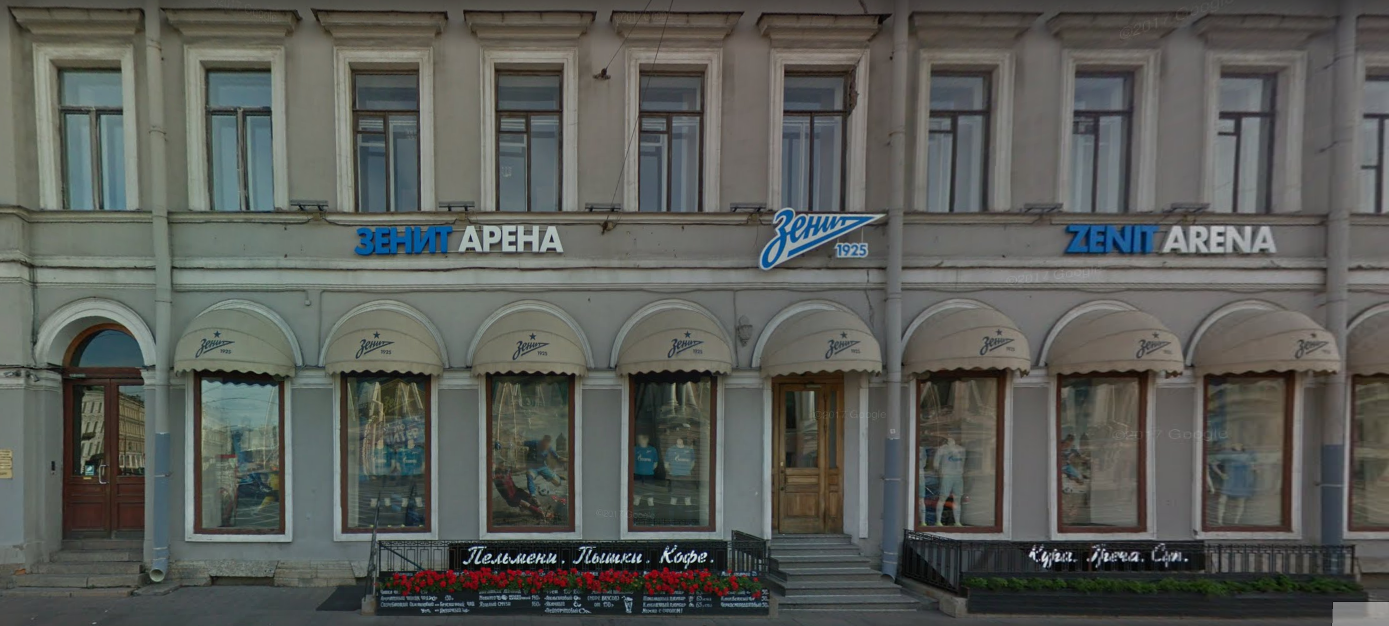door: (60, 370, 143, 544), (773, 382, 848, 540)
signboard: (751, 202, 884, 268), (1060, 215, 1282, 252), (350, 221, 567, 256)
window: (197, 378, 293, 535), (483, 378, 571, 541), (1055, 374, 1145, 533), (1202, 372, 1290, 529), (347, 379, 433, 534), (630, 374, 711, 537), (916, 378, 1001, 533), (201, 66, 272, 210), (352, 69, 422, 215), (926, 64, 993, 216), (491, 69, 560, 213), (776, 72, 846, 206), (640, 71, 703, 211), (64, 68, 122, 214), (1072, 70, 1130, 216), (1218, 75, 1276, 208)
